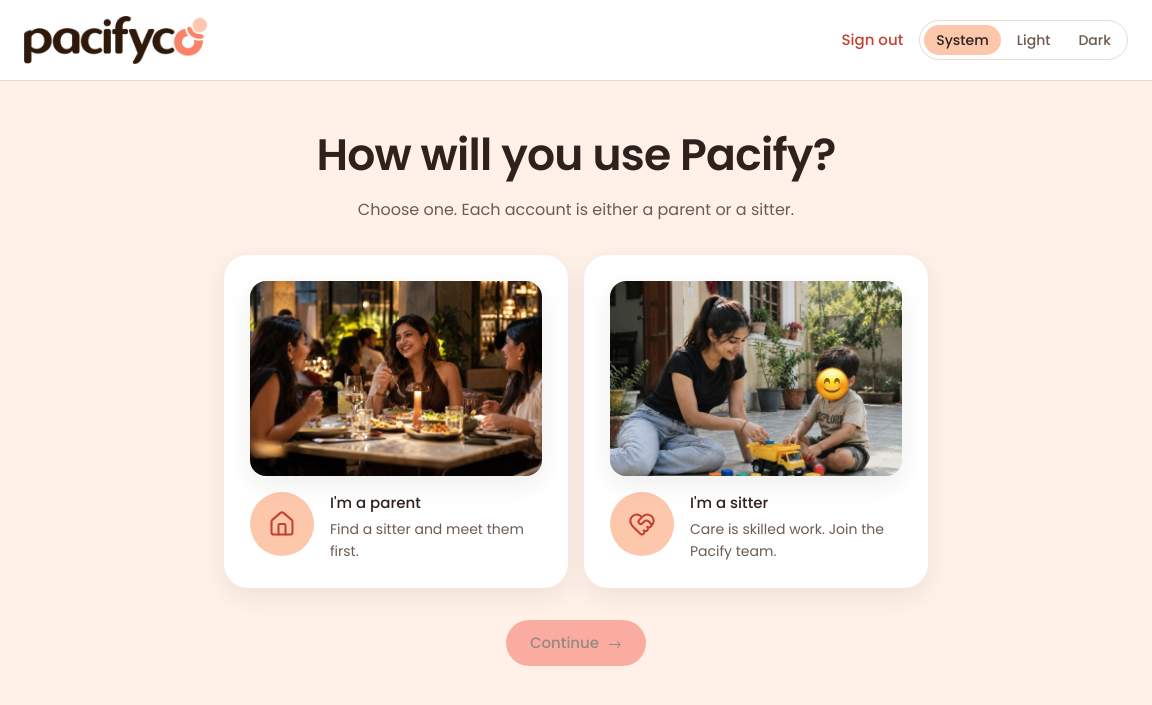
Scenario: joining after the first sign-in › Google's name prefills the form
Click the button "I'm a parent Find a sitter and meet them first." at {"x": 396, "y": 421}, box 224,255 -> 568,588
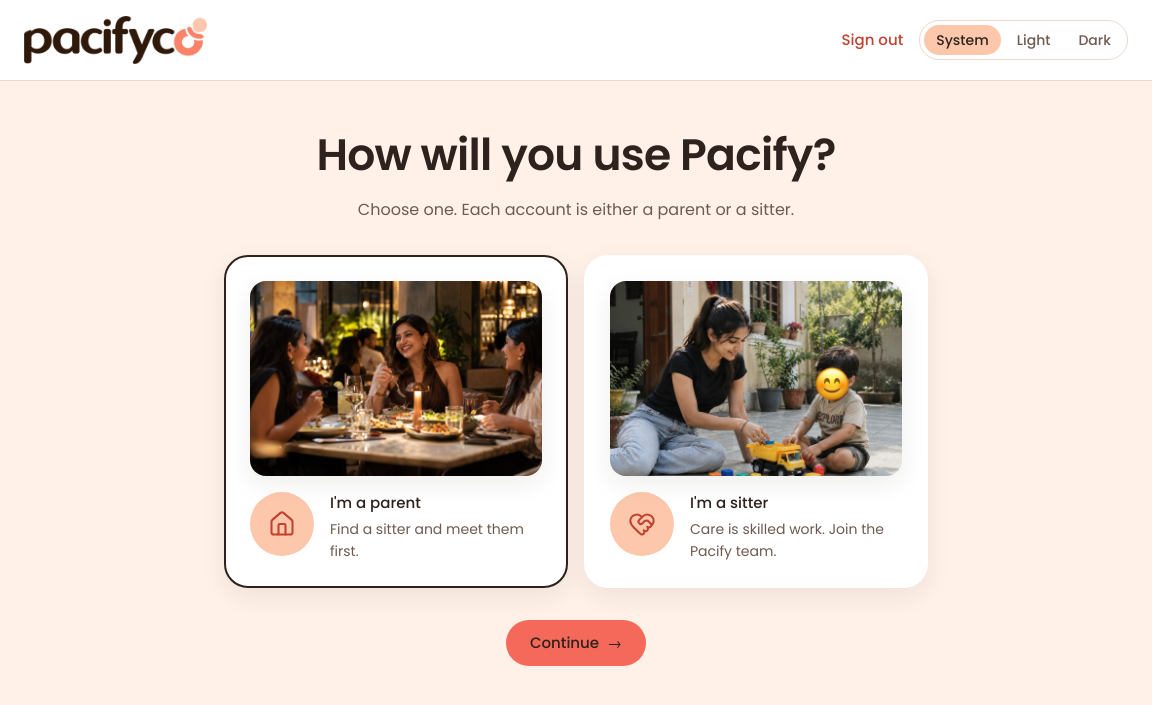
Click the button "Continue →" at {"x": 576, "y": 643}, box 506,620 -> 646,666
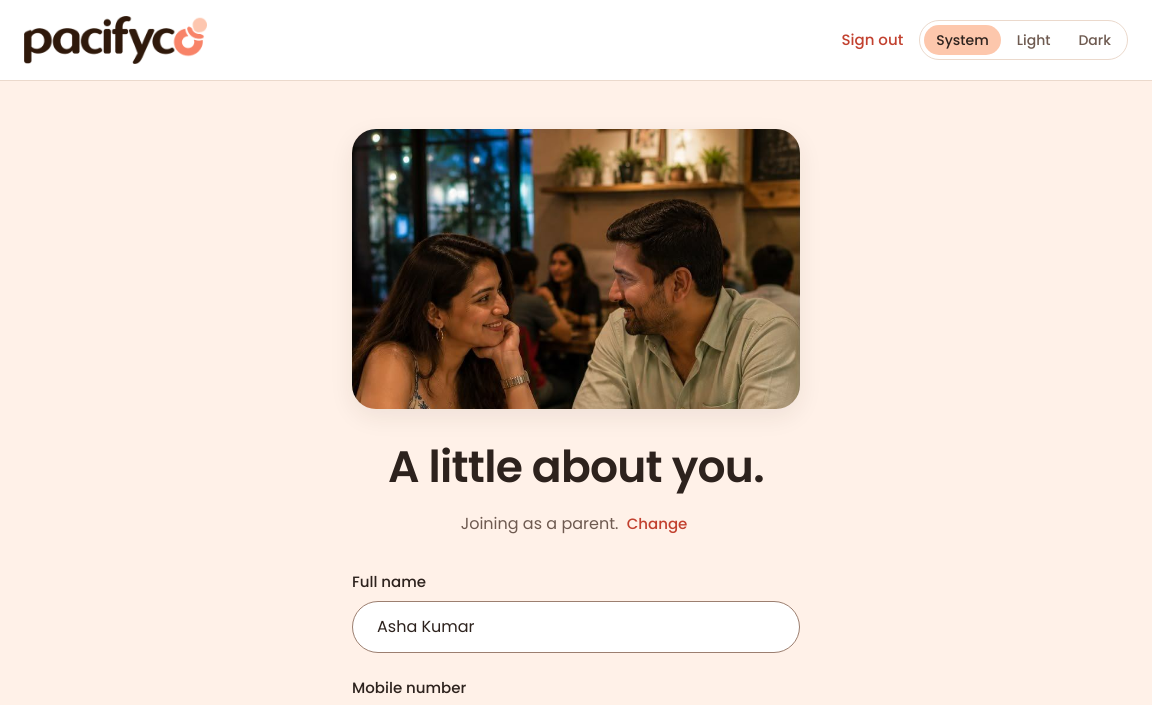
Result: the field labelled "Full name" holds "Asha Kumar" at 352,601 -> 800,653
